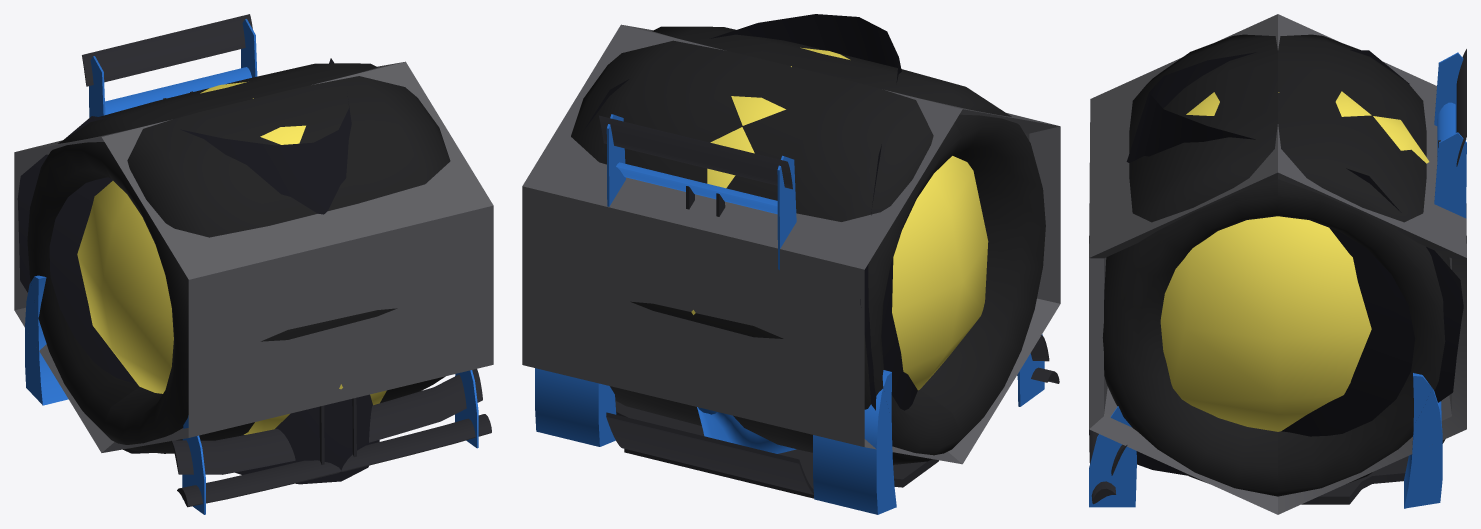
3 views of the same model, side by side, from view 1: azimuth 30°, elevation 25°; view 2: azimuth 150°, elevation 25°; view 3: azimuth 270°, elevation 25° (orthographic). The views are drawn at different scales.
Parts seen in each view (by area): view 1: rim_FR, tyre_FR, carbon, visor, tyre_FL, helmet, body, tyre_RR, tyre_RL, rim_RR; view 2: rim_RR, tyre_RR, tyre_RL, body, helmet, carbon, tyre_FR, visor, rim_RL, tyre_FL, rim_FR; view 3: helmet, tyre_RL, tyre_FL, visor, body, tyre_RR, rim_FR, tyre_FR, rim_RL, rim_RR, rim_FL, carbon.
Boxes of the visible parts, bbox=[...] form: rim_FR: bbox=[14, 61, 493, 452]; tyre_FR: bbox=[27, 90, 377, 453]; carbon: bbox=[82, 14, 491, 507]; visor: bbox=[17, 58, 379, 484]; tyre_FL: bbox=[208, 76, 450, 403]; helmet: bbox=[77, 82, 386, 434]; body: bbox=[25, 19, 478, 514]; tyre_RR: bbox=[32, 78, 288, 438]; tyre_RL: bbox=[234, 63, 377, 89]; rim_RR: bbox=[16, 62, 403, 452]; rim_RR: bbox=[522, 24, 1060, 463]; tyre_RR: bbox=[652, 56, 1045, 464]; tyre_RL: bbox=[571, 40, 846, 450]; body: bbox=[535, 114, 1044, 514]; helmet: bbox=[691, 47, 988, 390]; carbon: bbox=[599, 115, 1059, 498]; tyre_FR: bbox=[752, 44, 1040, 448]; visor: bbox=[583, 14, 917, 410]; rim_RL: bbox=[687, 91, 961, 337]; tyre_FL: bbox=[652, 26, 799, 56]; rim_FR: bbox=[623, 25, 1058, 463]; helmet: bbox=[1160, 91, 1429, 431]; tyre_RL: bbox=[1115, 97, 1450, 496]; tyre_FL: bbox=[1102, 100, 1440, 496]; visor: bbox=[1126, 50, 1463, 475]; body: bbox=[1089, 52, 1466, 508]; tyre_RR: bbox=[1278, 34, 1466, 243]; rim_FR: bbox=[1089, 14, 1277, 257]; tyre_FR: bbox=[1089, 34, 1277, 243]; rim_RL: bbox=[1089, 172, 1277, 514]; rim_RR: bbox=[1278, 14, 1466, 257]; rim_FL: bbox=[1278, 172, 1466, 514]; carbon: bbox=[1089, 49, 1466, 504].
Bounding box in the file's own units: 65536 × 65534 × 65537.
